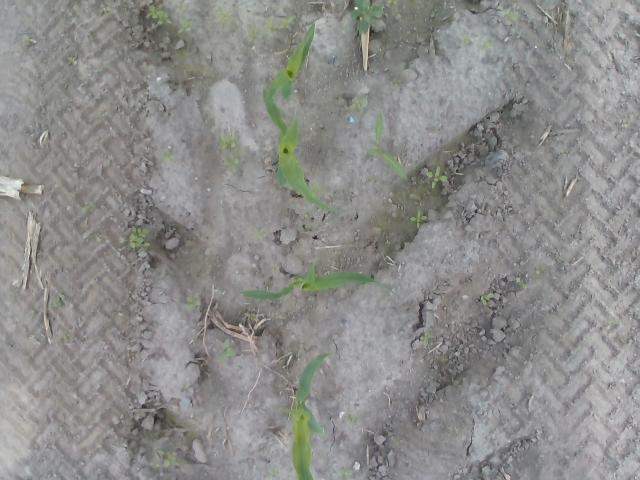Maize: (264, 84, 336, 216), (240, 265, 384, 302), (288, 350, 328, 480), (266, 22, 316, 104)
Weeds: (363, 109, 408, 178), (350, 0, 386, 35), (220, 134, 240, 171), (146, 1, 172, 26), (126, 226, 151, 252), (150, 448, 178, 468), (264, 15, 296, 32), (426, 164, 448, 188), (218, 336, 237, 361), (498, 6, 522, 24), (408, 208, 429, 228), (214, 6, 233, 26), (350, 94, 370, 113), (184, 294, 201, 311), (176, 20, 196, 34), (244, 26, 261, 42), (175, 0, 190, 14), (420, 332, 435, 346), (81, 200, 96, 214), (480, 291, 494, 304), (160, 150, 175, 162), (53, 292, 65, 306), (482, 36, 494, 49), (255, 228, 266, 241), (516, 276, 527, 288), (338, 471, 352, 480), (461, 34, 472, 45), (67, 55, 78, 66), (21, 33, 32, 43), (388, 78, 401, 86), (385, 0, 398, 7)
